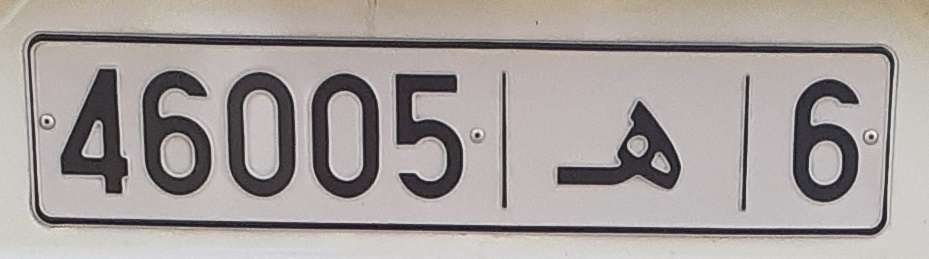0: (218, 62, 299, 203), (307, 64, 388, 203)
4: (49, 64, 136, 205)
5: (386, 62, 471, 205)
6: (781, 71, 869, 209), (136, 62, 214, 205)
h: (543, 80, 688, 209)
